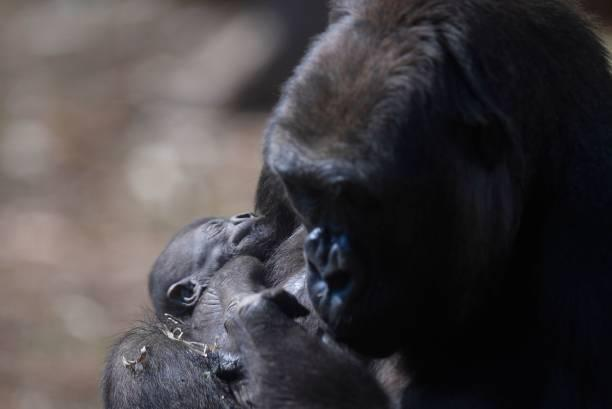gorille_Autres: (209, 0, 612, 409)
